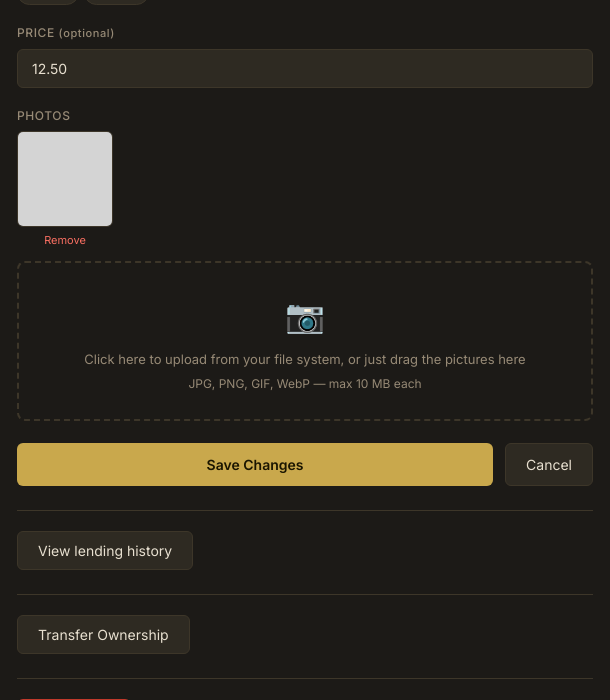
Test: EditMiniPage › offers the lending history, fetched only once opened
This screenshot has width=610, height=700.
(page scrolled)
What coordinates should you click on to do the following:
click the button "View lending history"
I would click on:
 (105, 551)
Its box is [17,531,193,570].
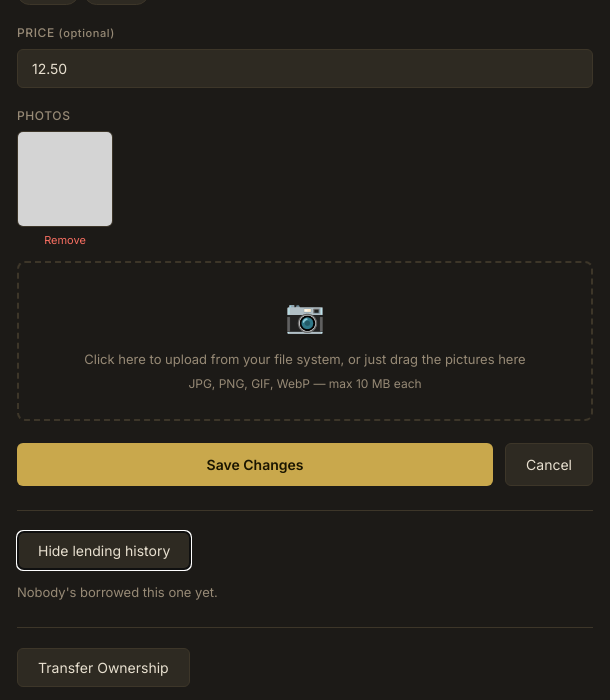
Now the text "Nobody's borrowed this one yet." is shown, box [17,584,218,600]
